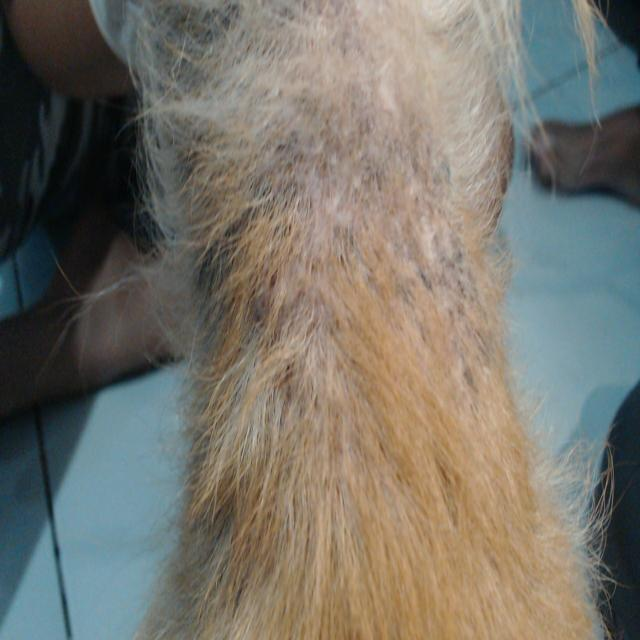demodicosis: (291, 111, 446, 330)
